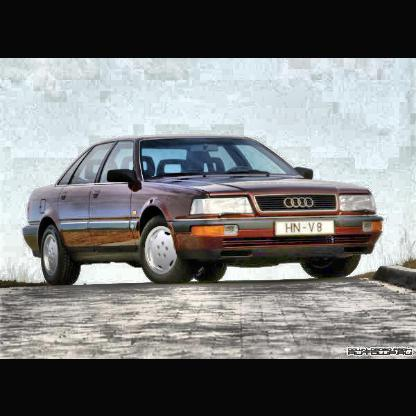Audi V8 Sedan 1994: (25, 137, 382, 284)
